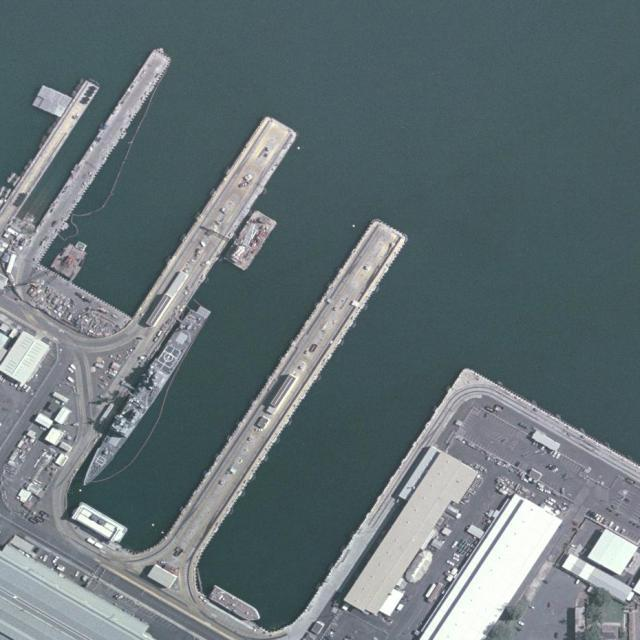Cruiser: (77, 308, 206, 491)
Dock: (164, 216, 409, 557), (131, 114, 298, 337), (34, 49, 172, 242)
